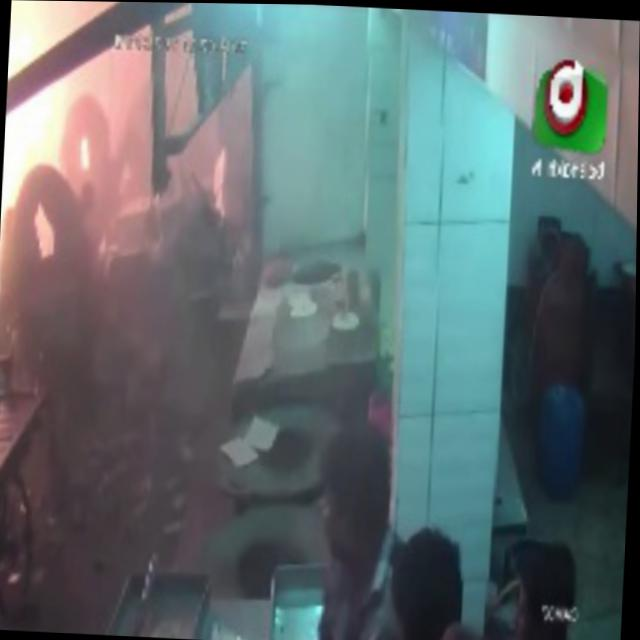fire: (4, 0, 64, 167)
smoke: (37, 1, 324, 549)
